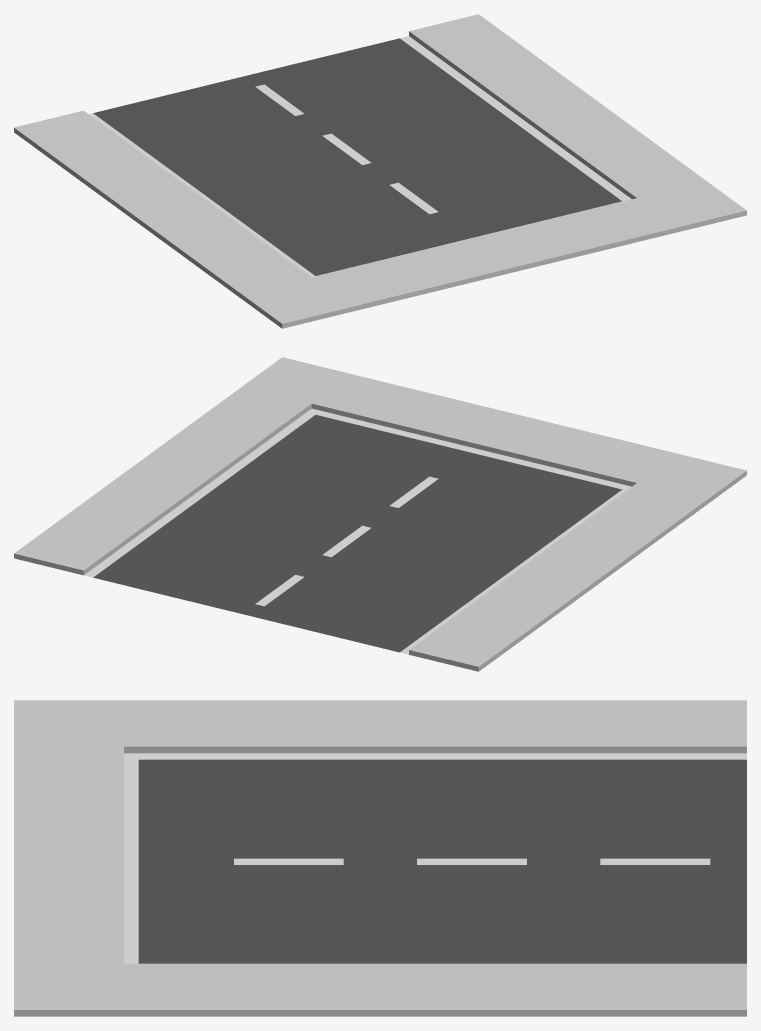
Rendered from tile_road_corner_3_up.glb.
3 renders of one model, top to bottom at view 1: azimuth 30°, elevation 25°; view 2: azimuth 150°, elevation 25°; view 3: azimuth 270°, elevation 25°, orthographic. The views are drawn at different scales.
Parts seen in each view (by area): view 1: Road Lane_04.003_0.003; view 2: Road Lane_04.003_0.003; view 3: Road Lane_04.003_0.003.
Boxes of the visible parts, bbox=[...] form: Road Lane_04.003_0.003: bbox=[14, 14, 746, 328]; Road Lane_04.003_0.003: bbox=[14, 357, 746, 671]; Road Lane_04.003_0.003: bbox=[14, 700, 746, 1016].
Size of the model in its own units: 20 by 0.2002 by 20.
1 material, 1 textured.
